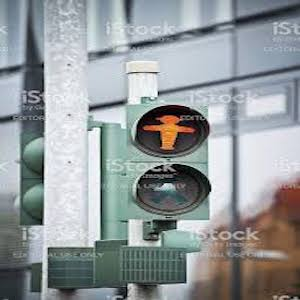red: (144, 113, 201, 156)
